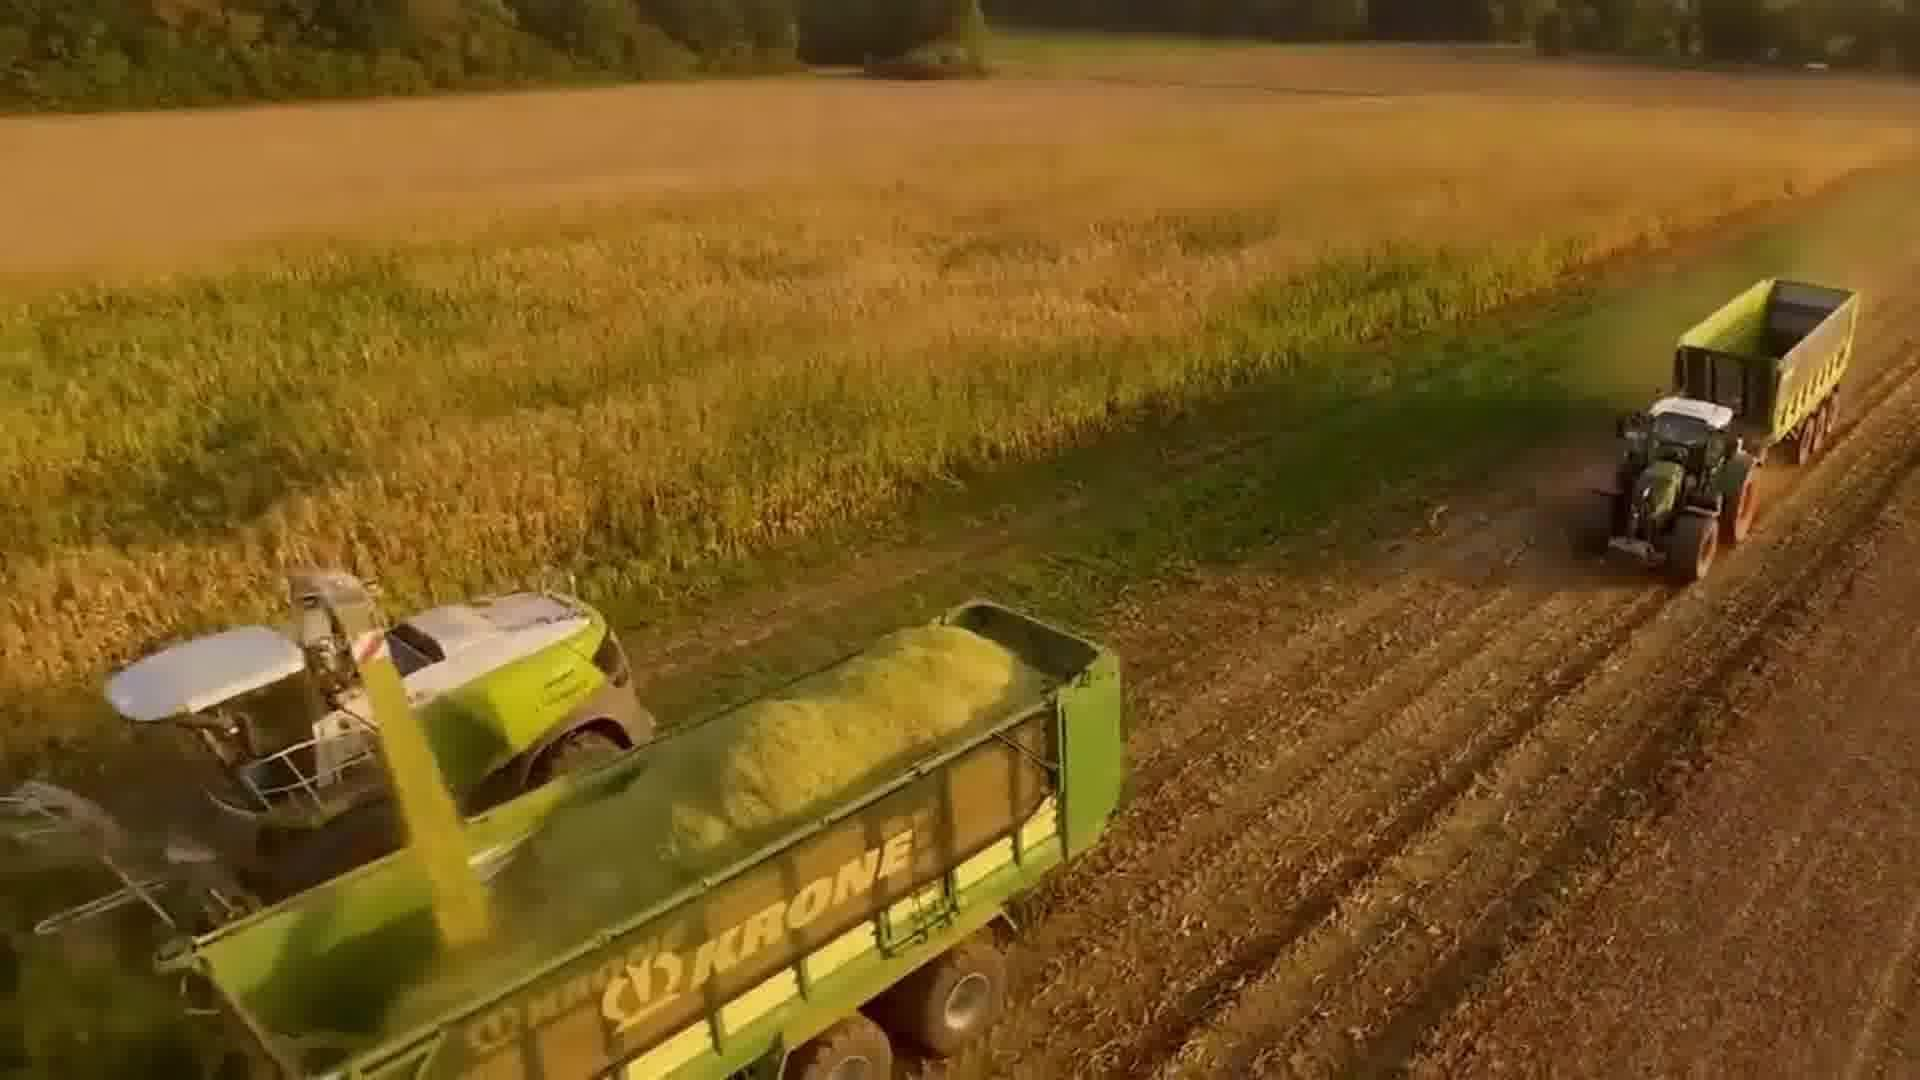combine harvester: (1, 564, 655, 953)
tractor: (1563, 392, 1771, 588)
trailer: (146, 589, 1133, 1080), (1667, 266, 1867, 467)
